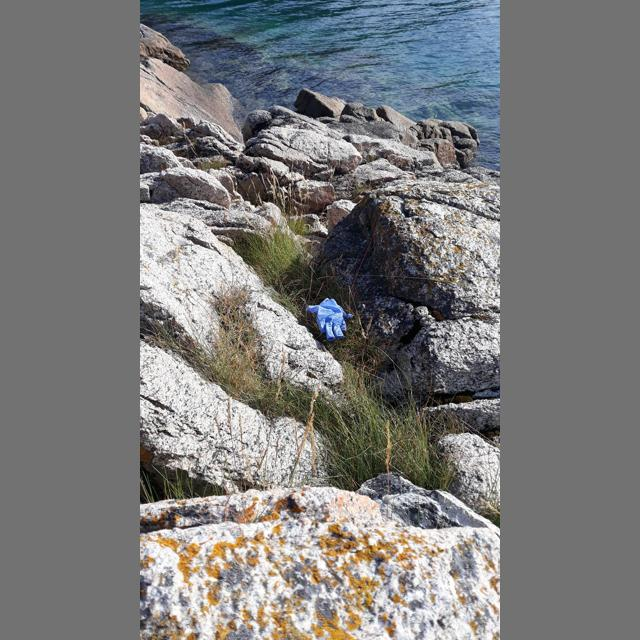litter: (306, 298, 353, 341)
